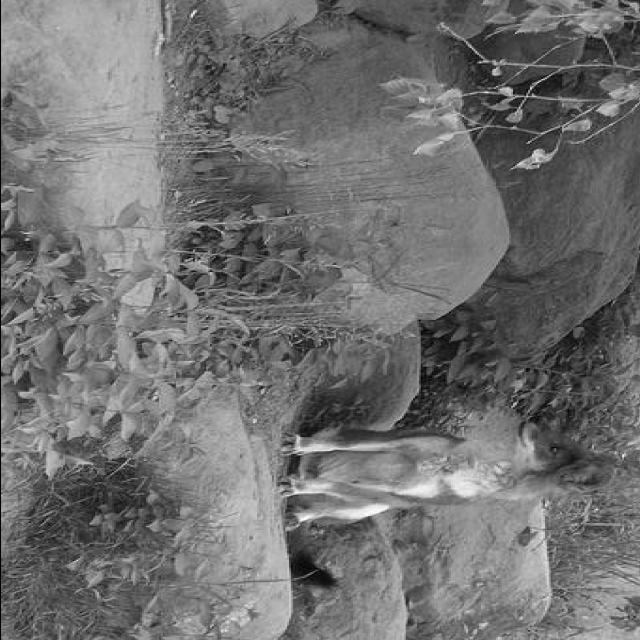sitting: (266, 401, 624, 592)
